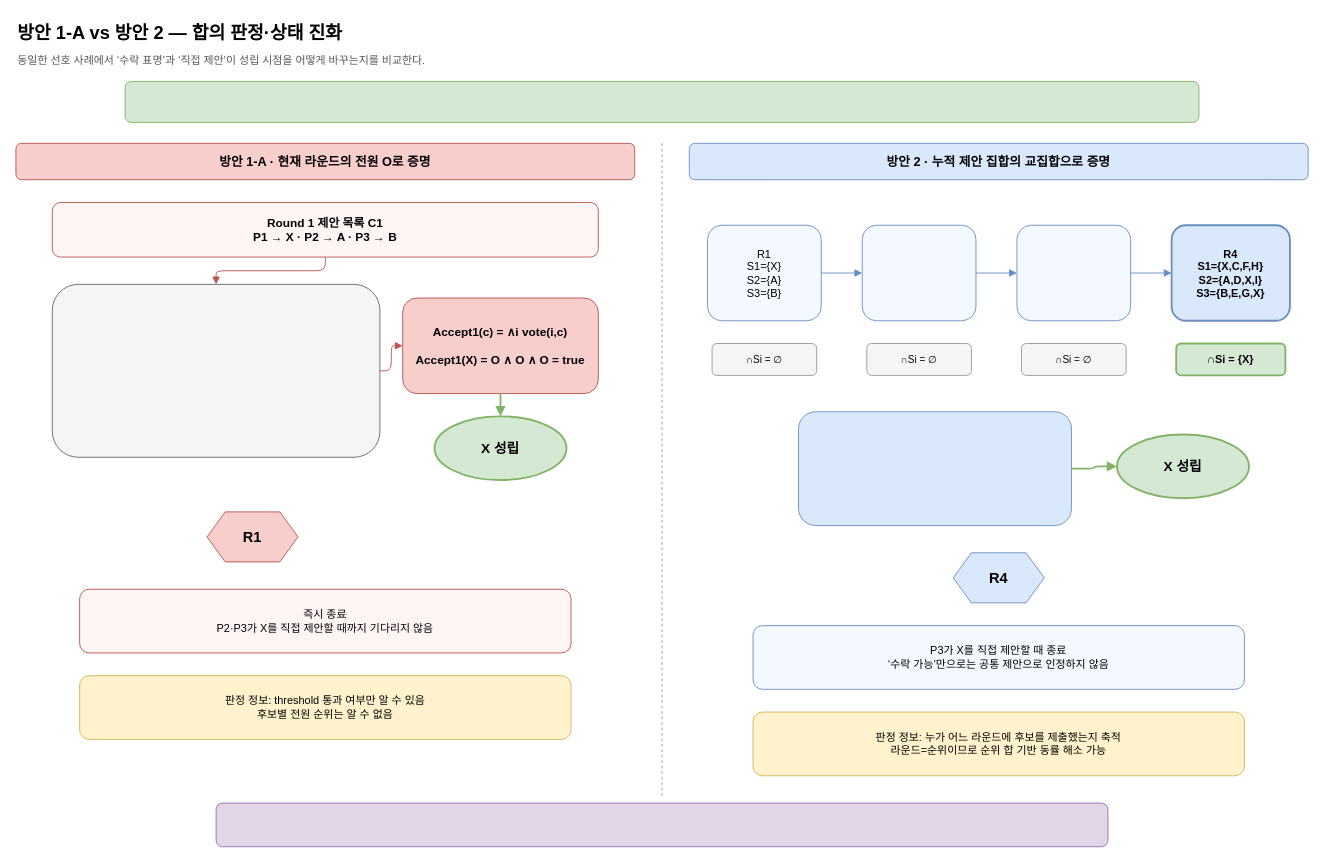
Some shapes in this 1324 by 863 pixel diagram are drawn without their labels. Here are the shapes that lost their labels. From the top down, the centre of each, then its label:
the point at 661,101: 예시 전제 │ X는 P1의 1순위, P2의 3순위, P3의 4순위이며 세 참여자 모두에게 revised threshold 이상이다.
the point at 918,272: R2 S1={X,C} S2={A,D} S3={B,E}
the point at 1073,272: R3 S1={X,C,F} S2={A,D,X} S3={B,E,G}
the point at 215,370: O/X 행렬 X A B P1 O X O P2 O O X P3 O X O
the point at 935,468: G(k) = S1(k) ∩ S2(k) ∩ S3(k) G(1)=G(2)=G(3)=∅ G(4)={X}
the point at 661,824: 결정적 차이 │ 1-A의 증거는 ‘현재 O’이고, 2의 증거는 ‘과거부터 누적된 직접 제안’이다.
